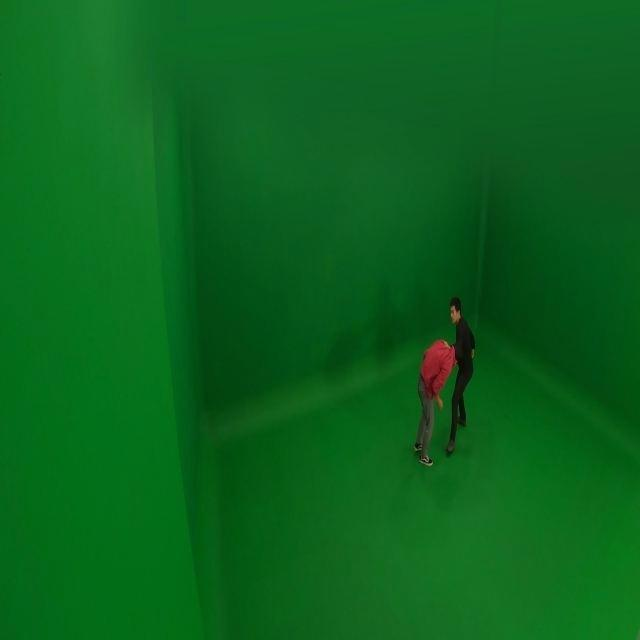fight: (412, 296, 476, 468)
